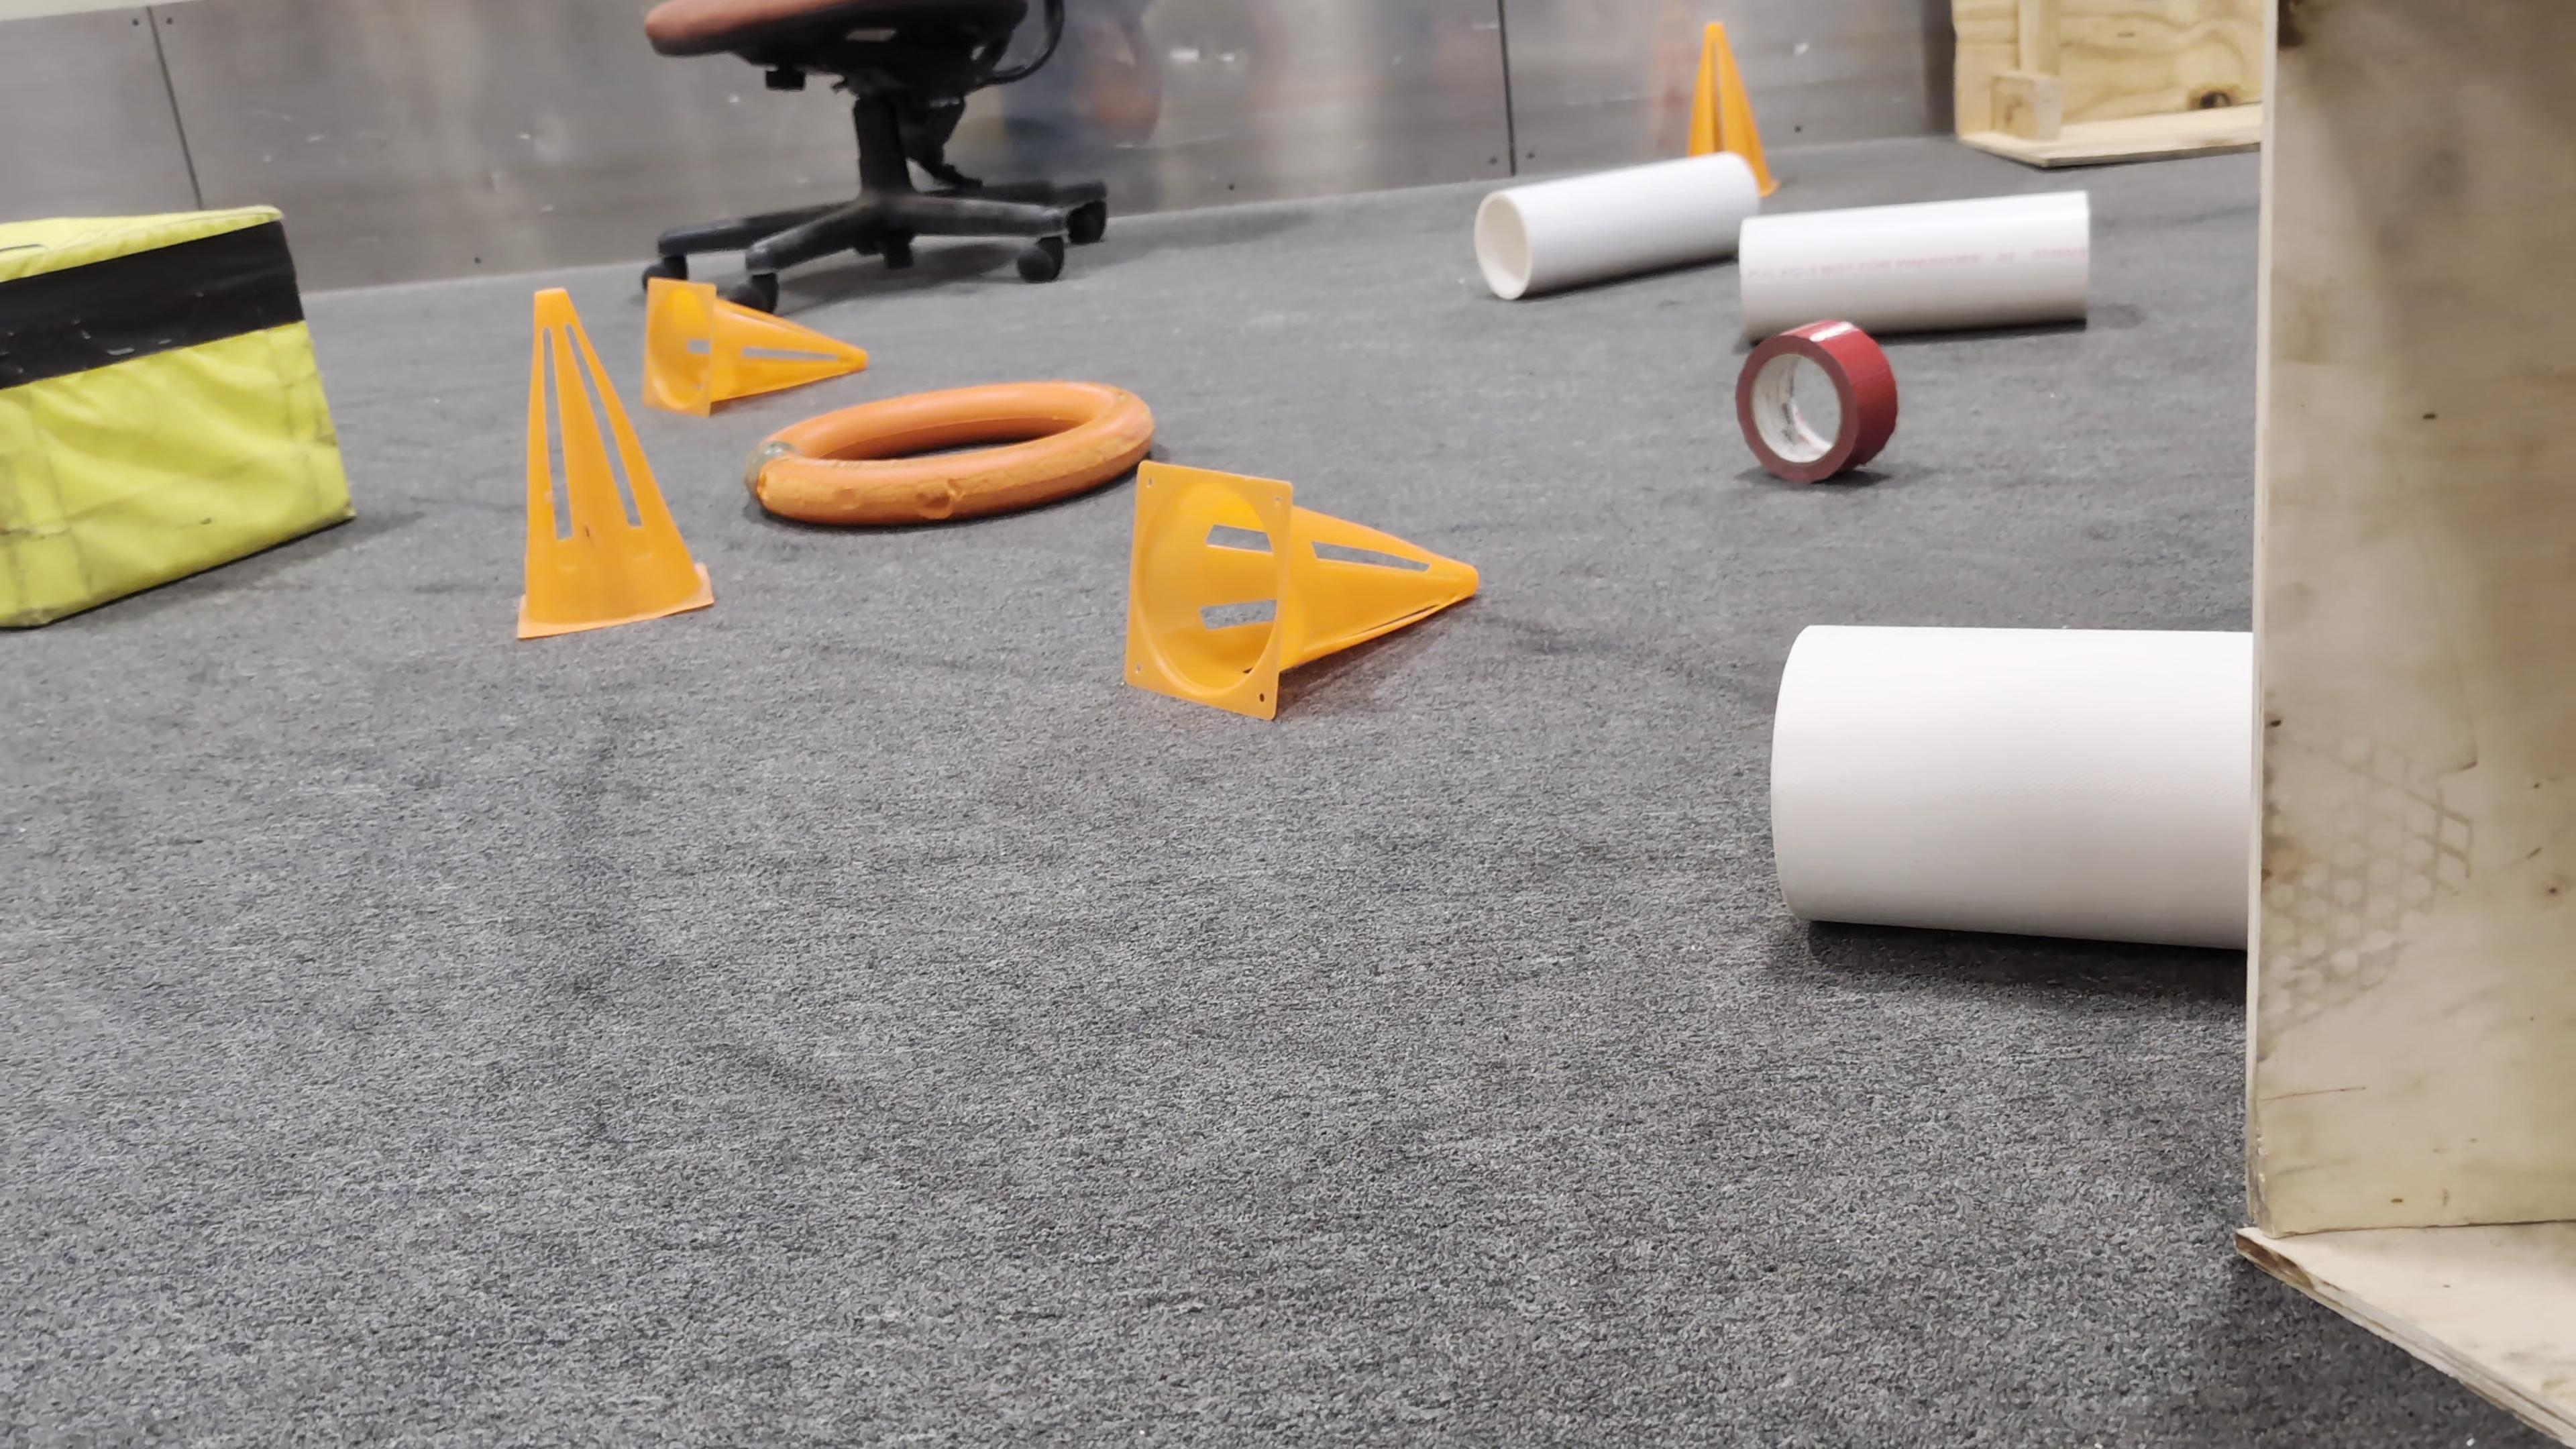coral: (1768, 619, 2264, 956), (1735, 183, 2094, 338), (1472, 148, 1758, 300)
